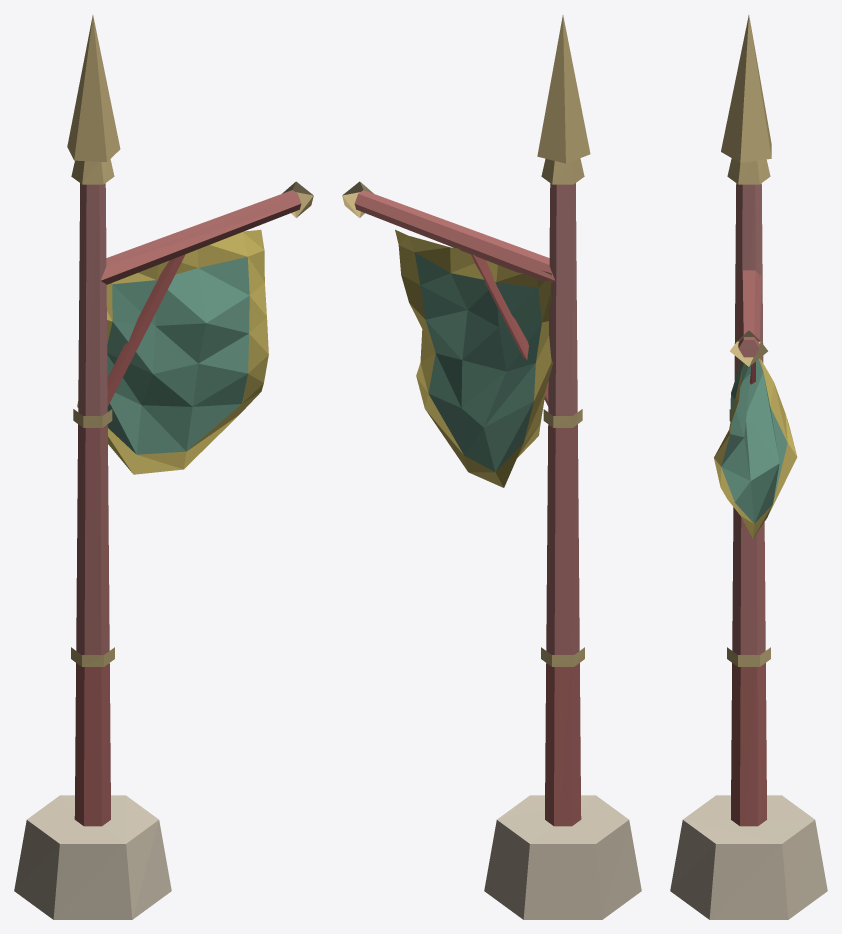
The model's file is flag.roundFly.cuiqi__pole.ground.miaogan__armHang.glb.
3 renders of one model, left to right at view 1: azimuth 30°, elevation 25°; view 2: azimuth 150°, elevation 25°; view 3: azimuth 270°, elevation 25°, orthographic.
Visible parts, largest first — view 1: flag.roundFly.cuiqi; view 2: flag.roundFly.cuiqi; view 3: flag.roundFly.cuiqi.
Part boxes in pixels (x1,y1,x2,y2): flag.roundFly.cuiqi: [14, 15, 313, 919]; flag.roundFly.cuiqi: [342, 15, 641, 919]; flag.roundFly.cuiqi: [670, 15, 827, 919].
Size of the model in its own units: 1.72 by 5.16 by 0.84.
